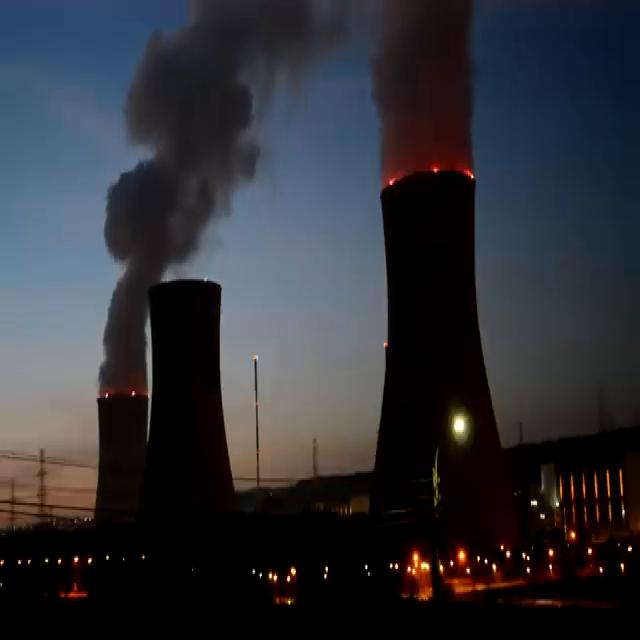smoke: (99, 0, 348, 396), (365, 0, 473, 187)
